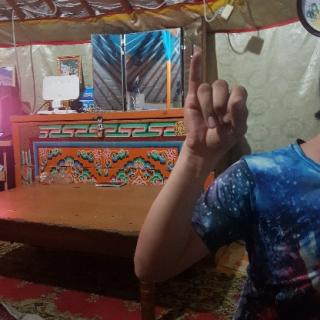MEEM: (180, 50, 254, 162)
